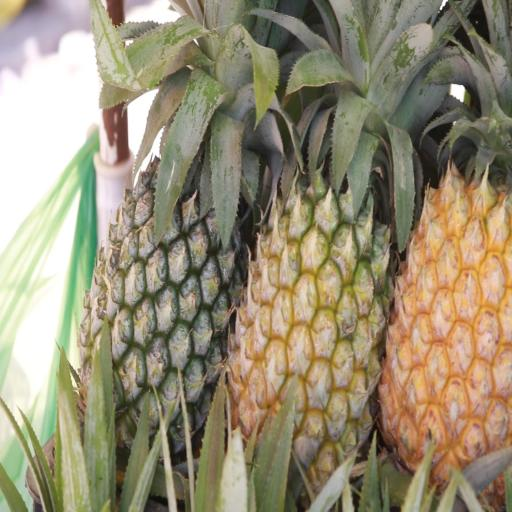------------------------------: (222, 39, 390, 495)
Pineapple - v8 v1: (376, 32, 512, 512)
